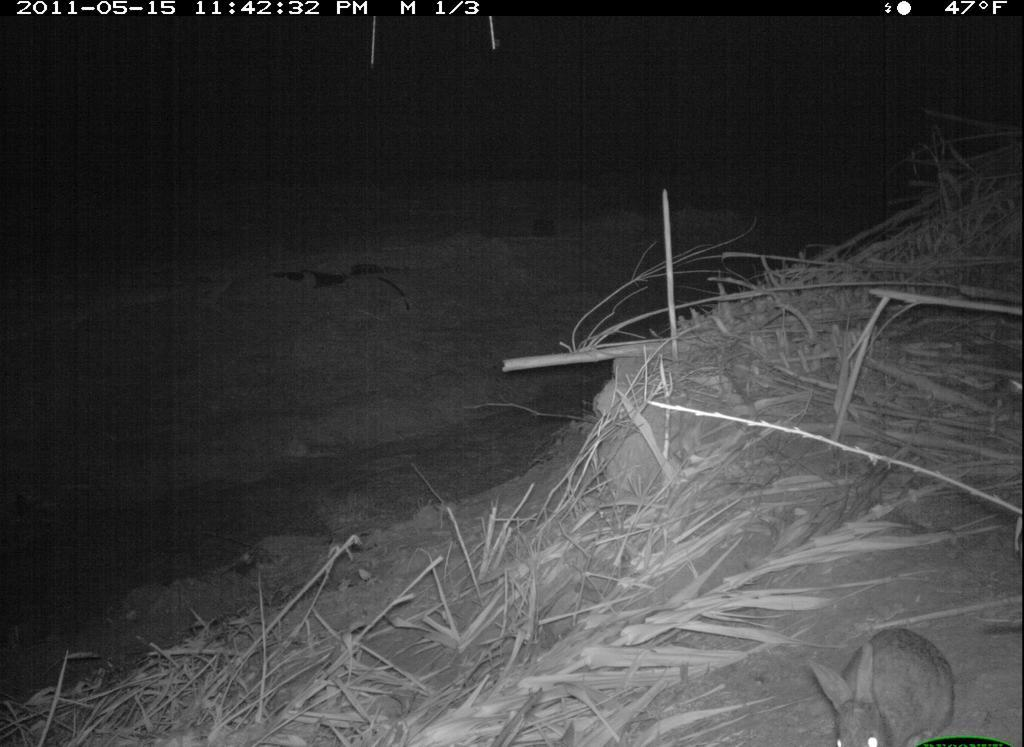rabbit: (798, 620, 966, 747)
